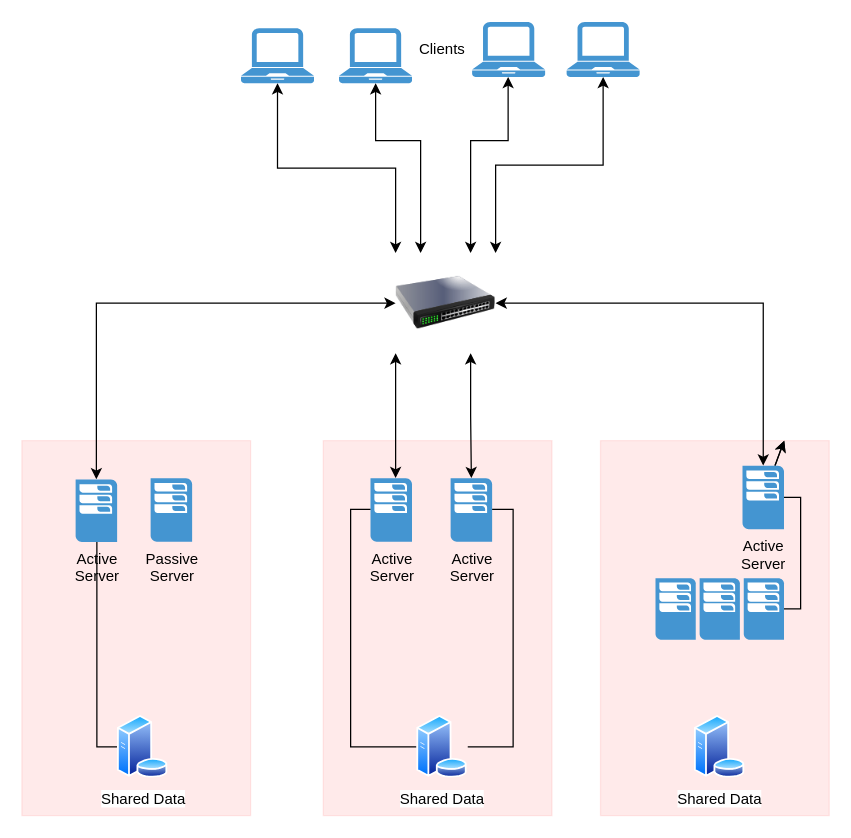
Some shapes in this 851 by 838 pixel diagram are drawn without their labels. Each missing label, with the box of its shape:
Active / Active Cluster: (21, 439, 251, 816)
Active / Passive Cluster: (322, 439, 552, 816)
Hypervisor (Hyper-V): (599, 439, 829, 816)
Hypervisor Cluster (Hyper-V): (655, 578, 783, 639)
